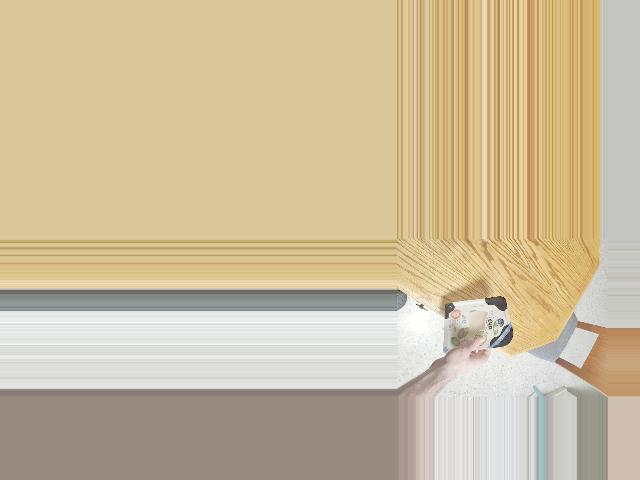cheese: (434, 302, 515, 352)
